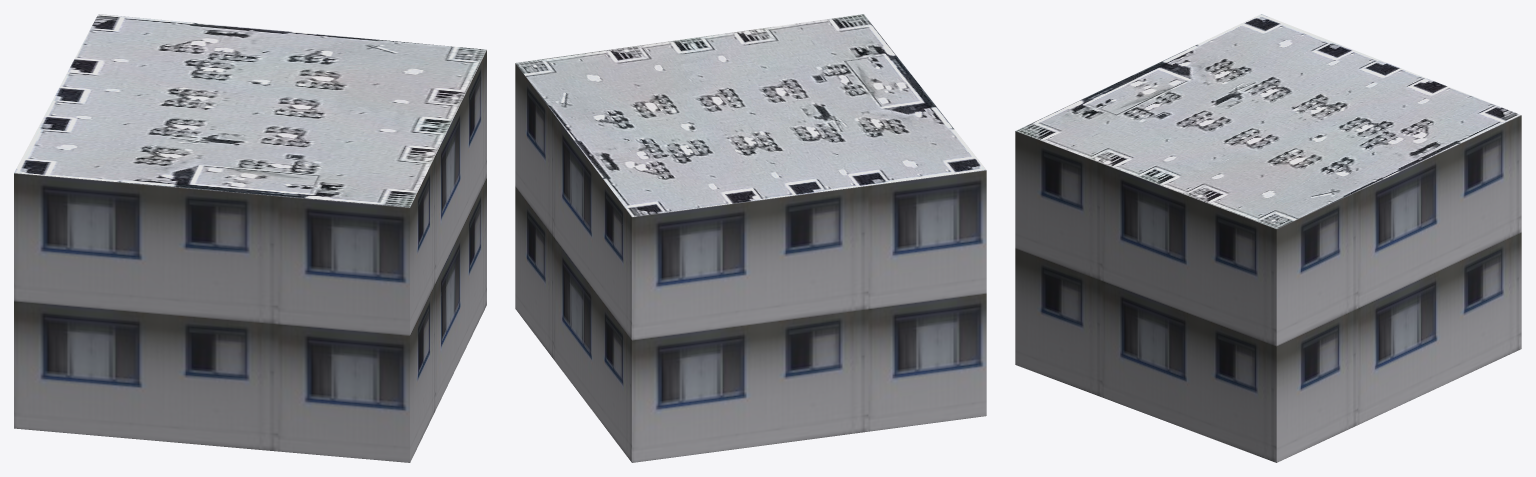
The model's file is ResTex__455.fbx.
The picture shows the model from 3 angles, left to right: view 1: azimuth 30°, elevation 25°; view 2: azimuth 150°, elevation 25°; view 3: azimuth 270°, elevation 25°; orthographic projection. The views are drawn at different scales.
Visible parts, largest first — view 1: CityEngineMaterial_9_m, CityEngineMaterial_m; view 2: CityEngineMaterial_9_m, CityEngineMaterial_m; view 3: CityEngineMaterial_9_m, CityEngineMaterial_m.
Part boxes in pixels (box(x1,y1,x2,y2)): CityEngineMaterial_9_m: box(14, 50, 486, 462); CityEngineMaterial_m: box(14, 14, 486, 207); CityEngineMaterial_9_m: box(515, 63, 986, 462); CityEngineMaterial_m: box(515, 14, 986, 216); CityEngineMaterial_9_m: box(1015, 115, 1521, 462); CityEngineMaterial_m: box(1016, 14, 1521, 228).
Bounding box in the file's own units: 11.83 × 6 × 11.77.
Materials: 2 (2 with a texture image).
